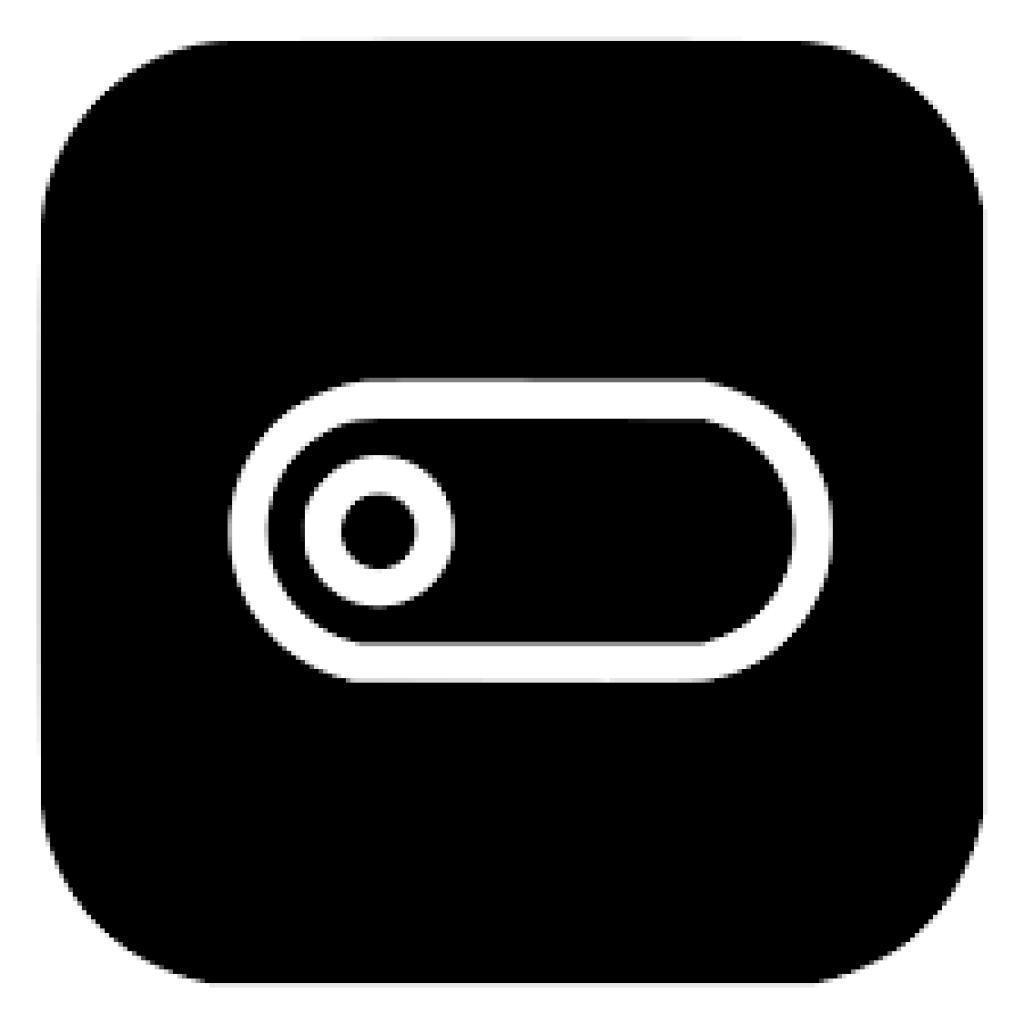switch: (225, 378, 835, 678)
